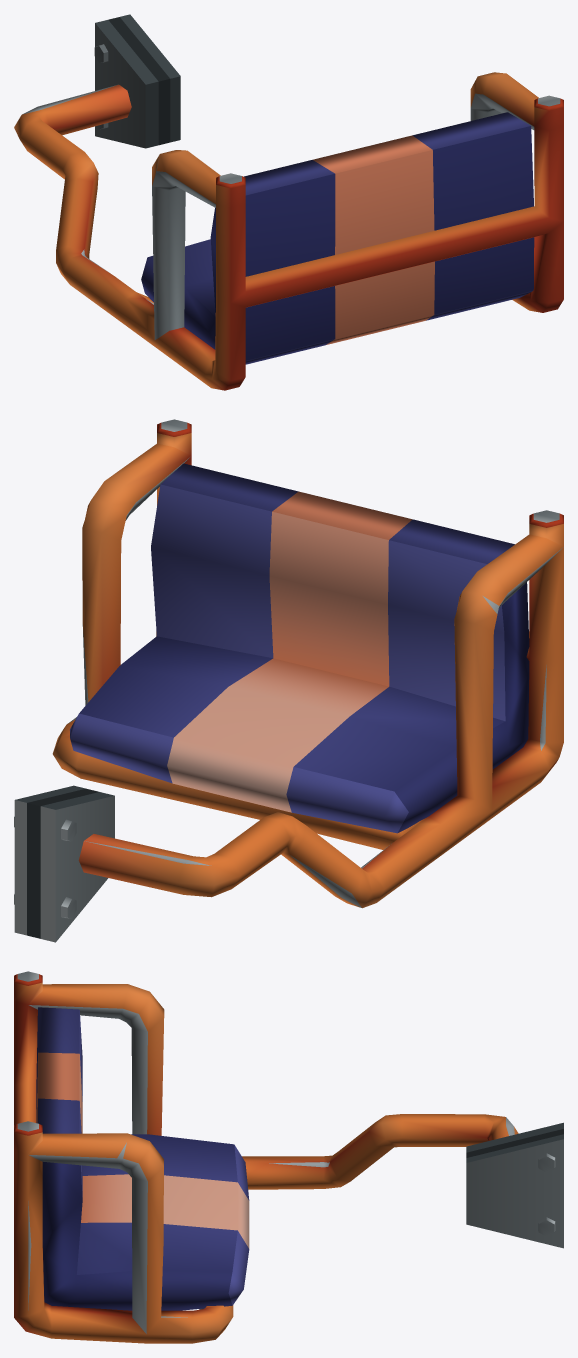
Rendered from ChairliftChair.fbx.
3 renders of one model, top to bottom at view 1: azimuth 30°, elevation 25°; view 2: azimuth 150°, elevation 25°; view 3: azimuth 270°, elevation 25°, orthographic. The views are drawn at different scales.
Visible parts, largest first — view 1: ChairliftChair; view 2: ChairliftChair; view 3: ChairliftChair.
Part boxes in pixels (x1,y1,x2,y2): ChairliftChair: (14, 14, 563, 390); ChairliftChair: (14, 419, 563, 942); ChairliftChair: (14, 971, 563, 1343).
Bounding box in the file's own units: 133 × 80.32 × 187.
